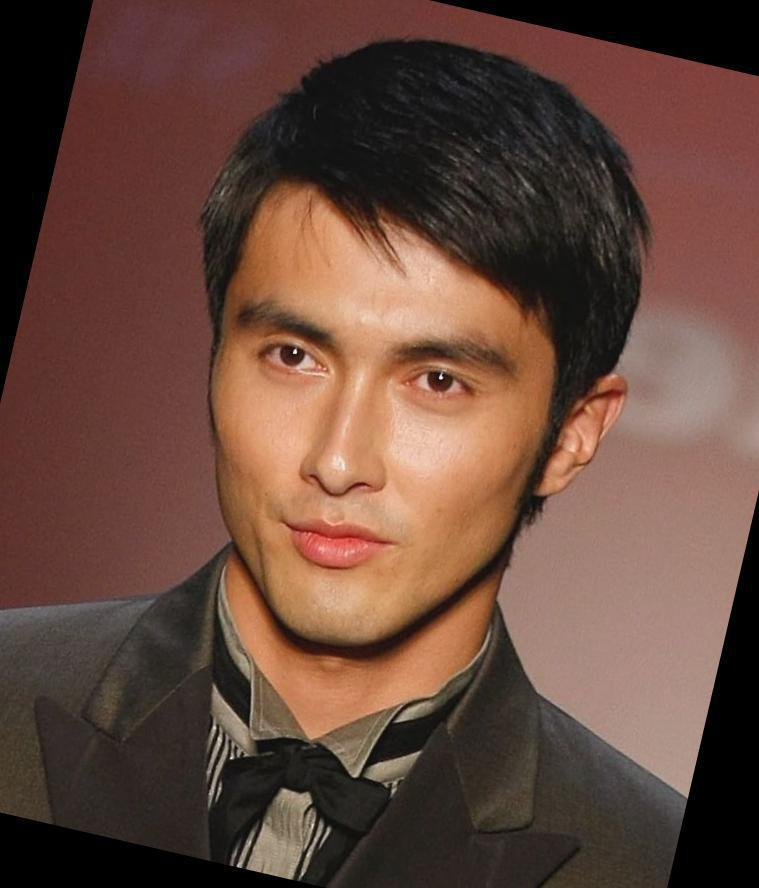Sober: (227, 220, 512, 631)
